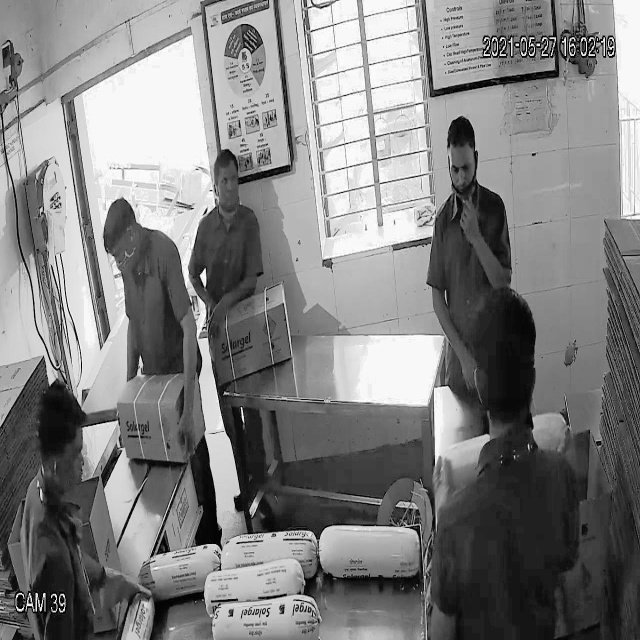Sin_gafas: (443, 152, 483, 186)
